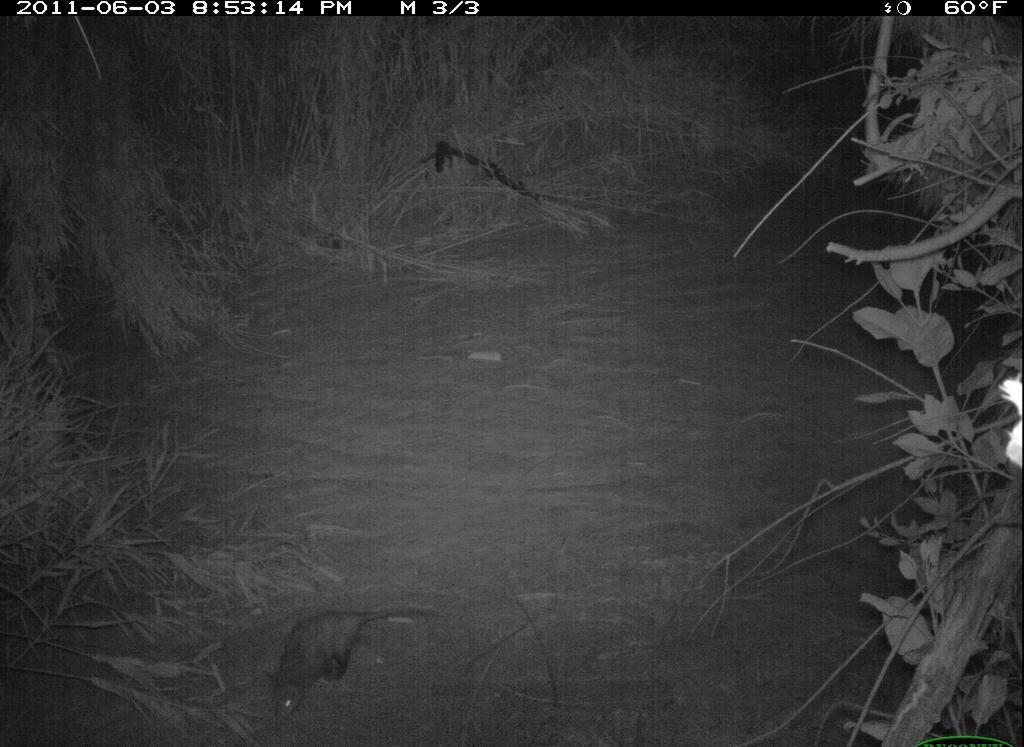opossum: (263, 605, 448, 729)
